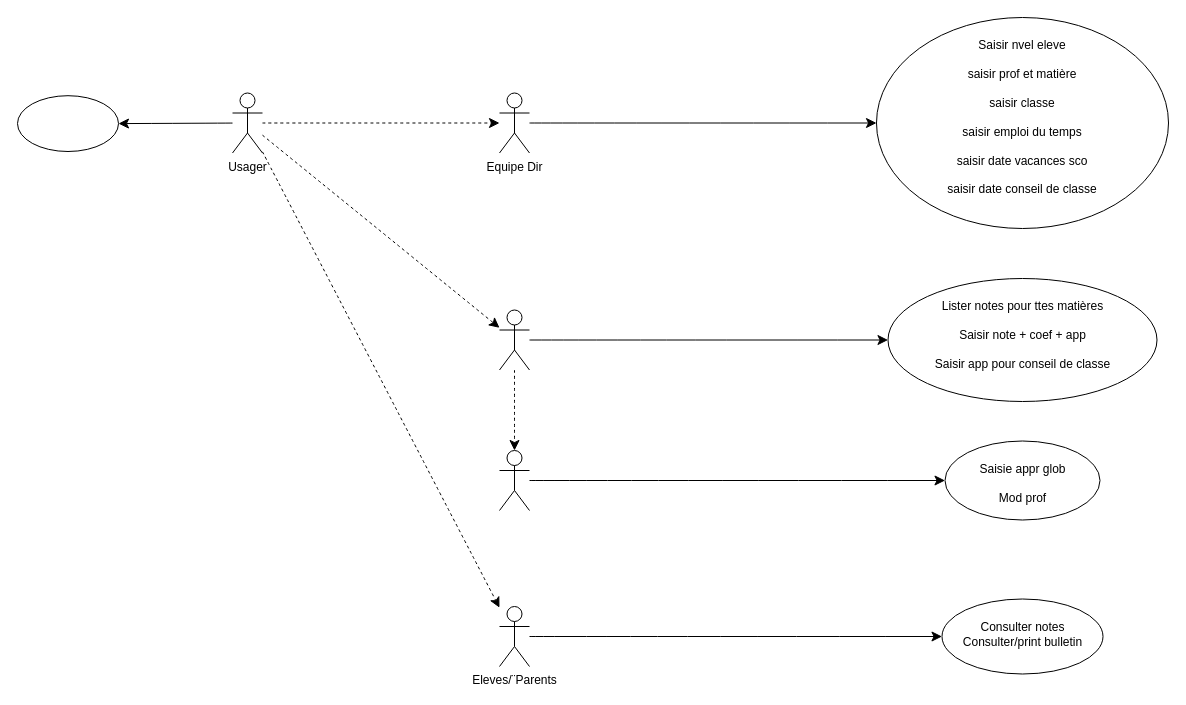
This 1186x705 diagram has some shape labels left out. The centre of each missing label's shape, as x and y in pixels:
"authentification" belongs at [67,123].
"Prof" belongs at [514,339].
"Prof Principal" belongs at [514,480].
